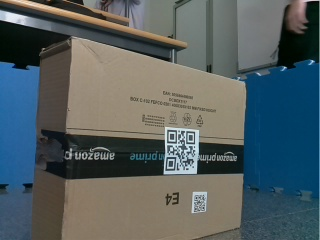caja: (37, 37, 246, 240)
